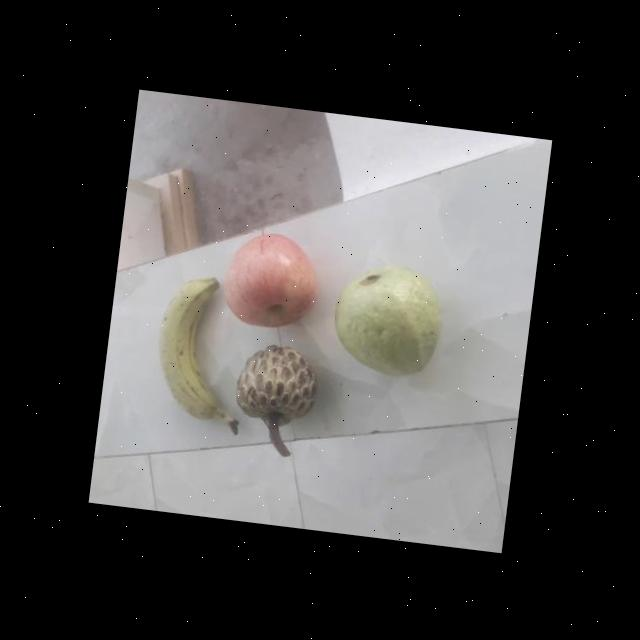Sakya fruit: (232, 336, 322, 427)
apple: (218, 225, 320, 334)
banana: (148, 261, 257, 428)
guava: (328, 254, 447, 377)
